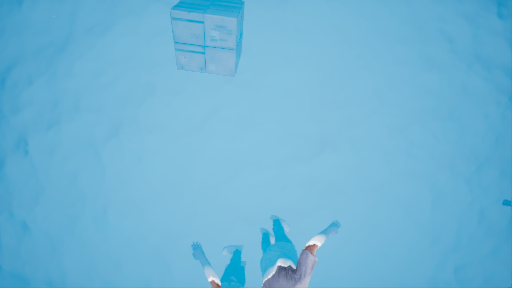person: (201, 211, 349, 287)
